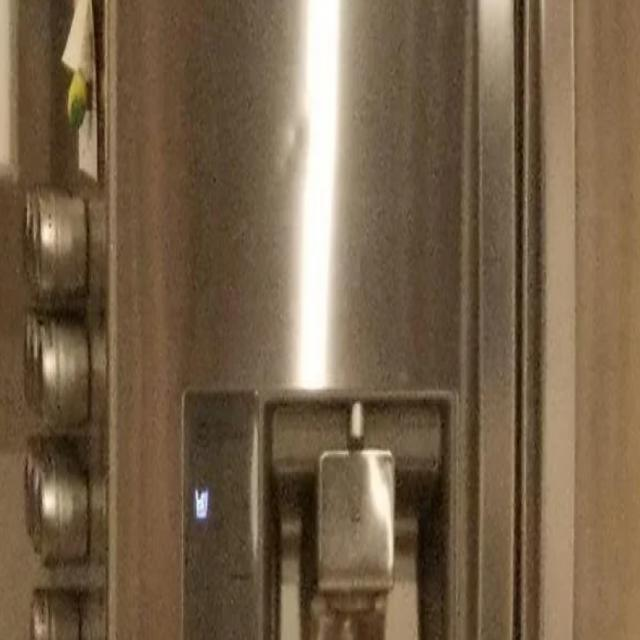dents: (264, 89, 324, 221)
